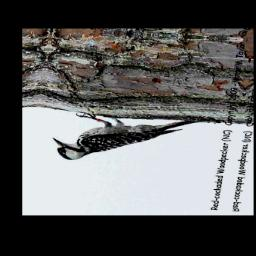Woodpecker: (48, 109, 212, 168)
